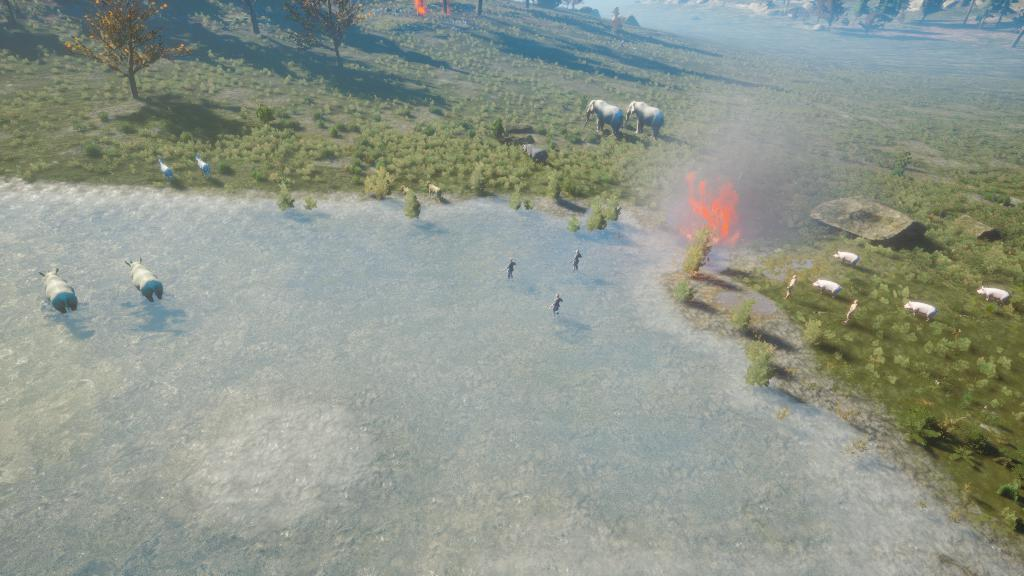Fire: (684, 172, 743, 255)
elephant: (581, 99, 628, 146), (624, 99, 670, 145)
hippopotamus: (514, 138, 552, 174)
human: (539, 287, 569, 325), (497, 253, 522, 287), (843, 293, 864, 328), (566, 248, 585, 277), (780, 271, 800, 298)
lion: (391, 181, 424, 208), (418, 178, 449, 204)
pig: (968, 282, 1014, 314), (901, 295, 940, 330), (809, 273, 845, 303), (832, 246, 863, 271)
rhinoceros: (115, 255, 178, 313), (35, 264, 95, 323)
smoke: (672, 115, 815, 260)
zebra: (150, 152, 181, 189), (188, 151, 215, 181)
